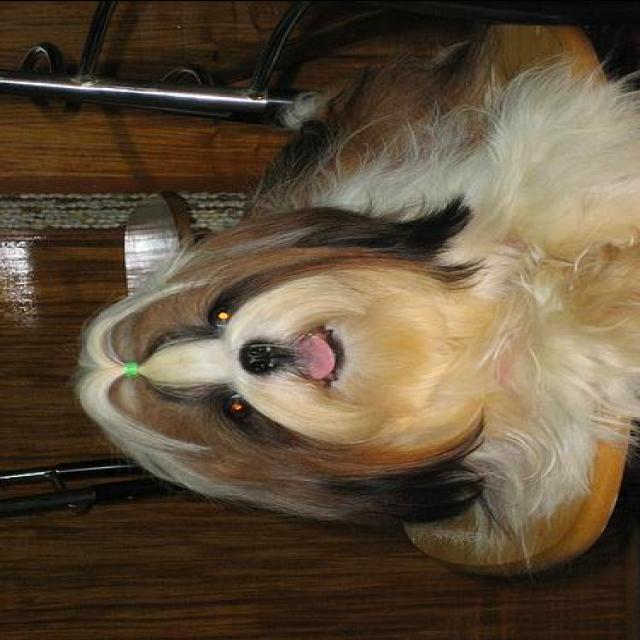shih_tzu: (74, 41, 638, 548)
